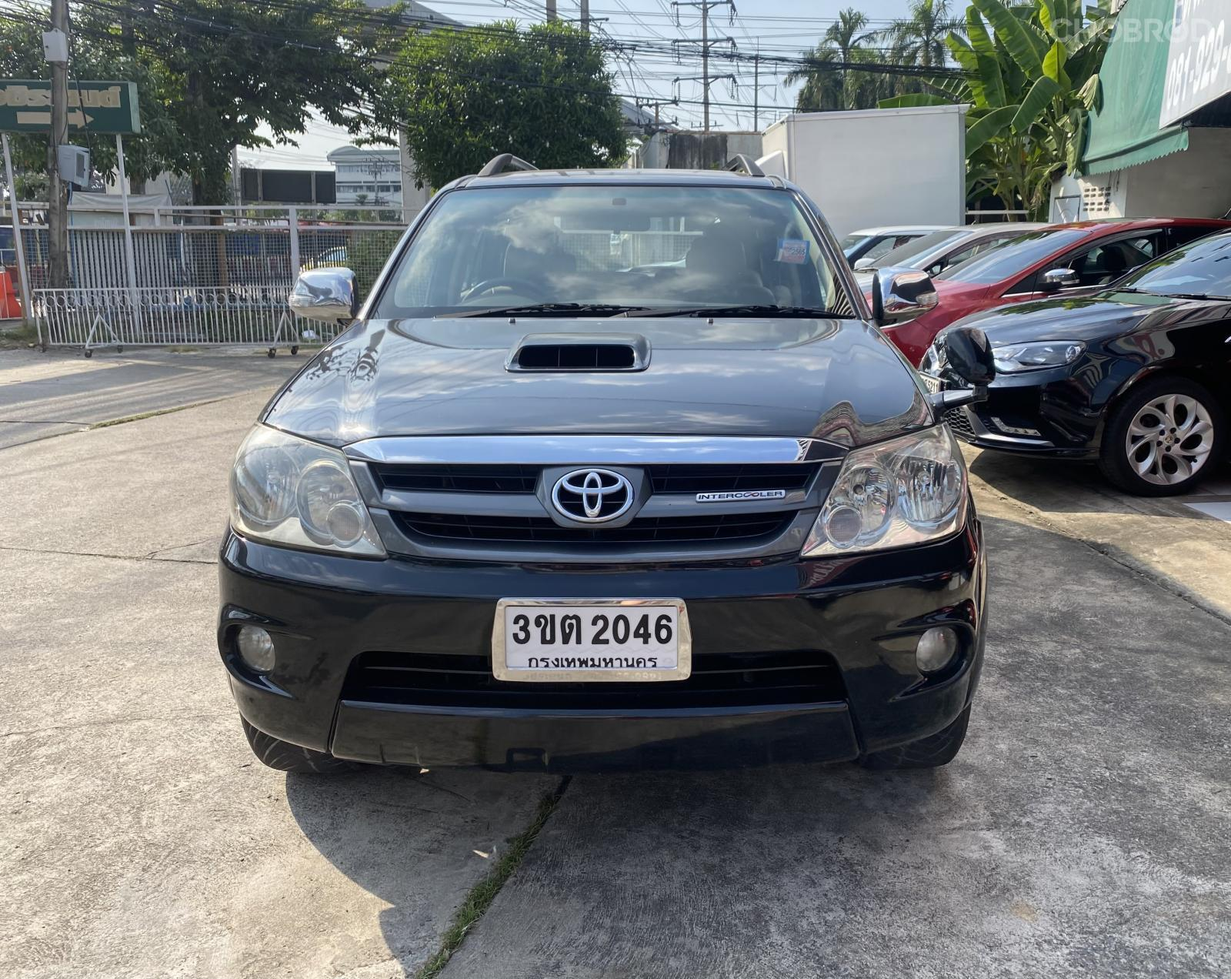license-plate: (491, 594, 693, 685)
